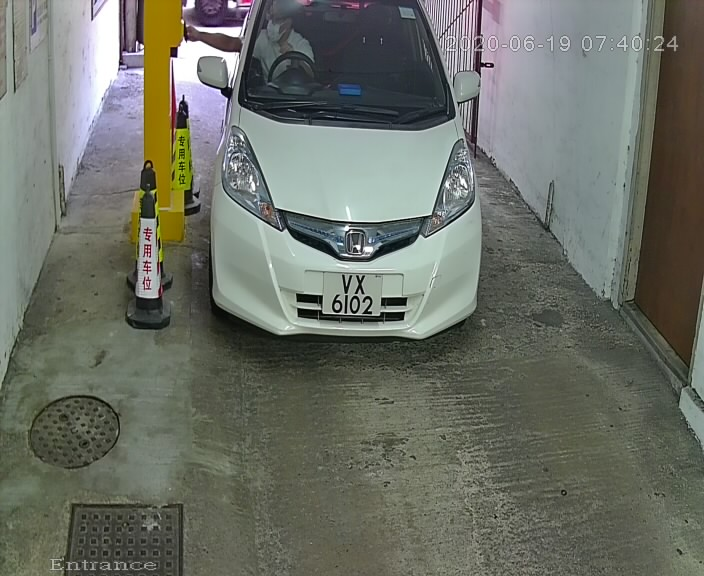privatecar: (205, 3, 489, 352)
